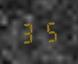five: (39, 19, 58, 42)
three: (19, 21, 38, 44)
